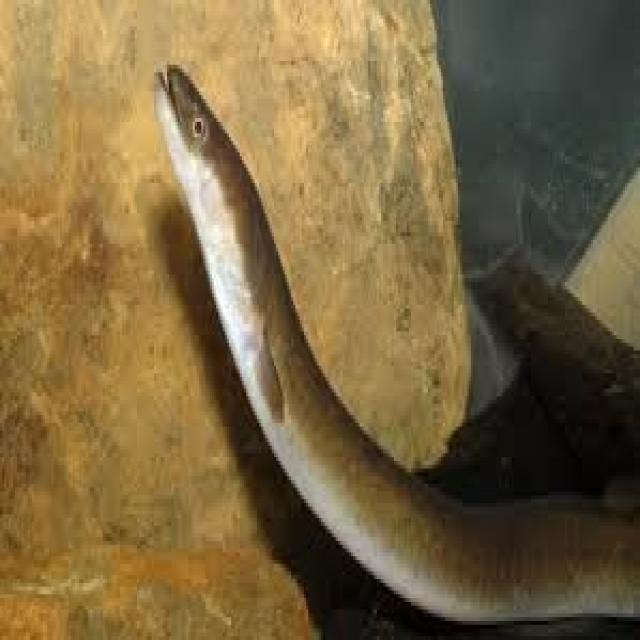Freshwater-Eel: (115, 43, 640, 640)
